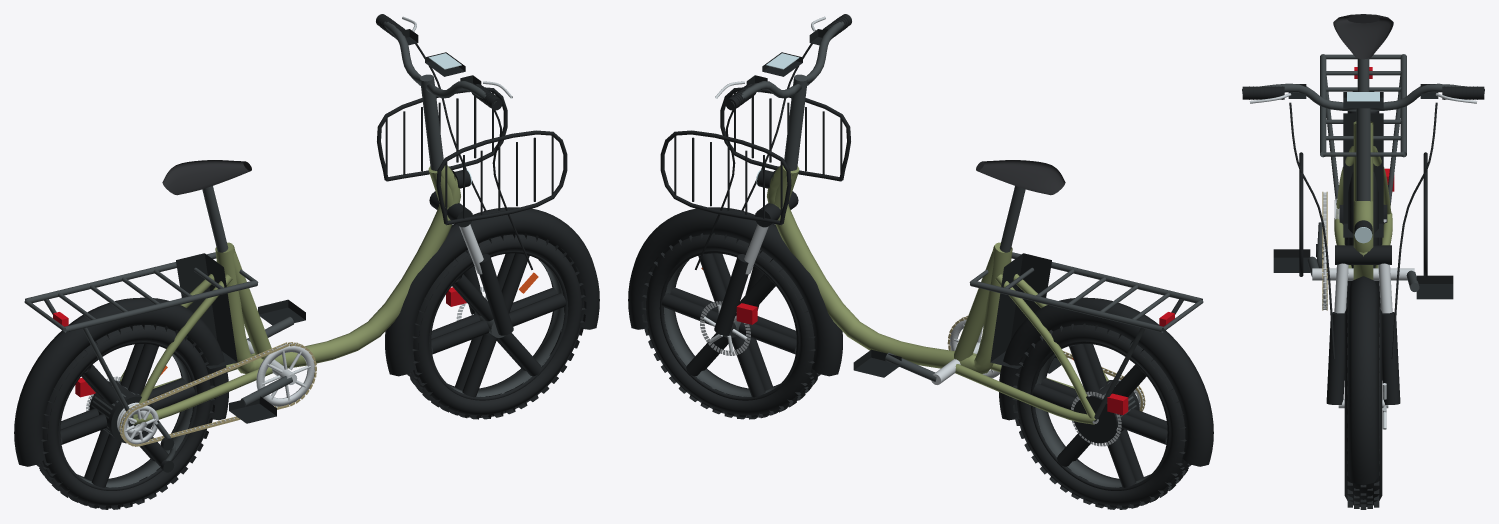
The model's file is fiido-t1.glb.
3 views of the same model, side by side, from view 1: azimuth 30°, elevation 25°; view 2: azimuth 150°, elevation 25°; view 3: azimuth 270°, elevation 25° (orthographic). The views are drawn at different scales.
Visible parts, largest first — view 1: Bodywork | black, Chassis | olive, FrontWheel | rubber, FrontWheel | black, RearWheel | rubber, RearWheel | black, Bodywork | graphite, Drive | steel, BatteryMount | black, Cockpit | graphite, Bodywork | seat, Fork | black (+9 smaller); view 2: Bodywork | black, Chassis | olive, FrontWheel | rubber, RearWheel | rubber, FrontWheel | black, RearWheel | black, Bodywork | graphite, BatteryMount | black, Cockpit | graphite, Bodywork | seat, Fork | black, FrontWheel | graphite (+8 smaller); view 3: Bodywork | black, Bodywork | graphite, Fork | black, Chassis | olive, Cockpit | graphite, Cockpit | rubber, FrontWheel | rubber, Bodywork | seat, BatteryMount | black, Drive | black, Fork | steel, Drive | steel (+6 smaller).
Part boxes in pixels (x1,y1,x2,y2): Bodywork | black: (14,87,599,466); Chassis | olive: (120,165,460,424); FrontWheel | rubber: (407,233,586,419); FrontWheel | black: (429,251,568,400); RearWheel | rubber: (37,323,215,509); RearWheel | black: (58,341,197,490); Bodywork | graphite: (24,252,258,418); Drive | steel: (117,340,315,444); BatteryMount | black: (176,253,237,368); Cockpit | graphite: (383,21,496,170); Bodywork | seat: (162,160,251,195); Fork | black: (429,191,513,335); Bodywork | black: (628,87,1213,466); Chassis | olive: (767,165,1108,424); FrontWheel | rubber: (641,233,820,419); RearWheel | rubber: (1012,323,1190,509); FrontWheel | black: (659,251,798,400); RearWheel | black: (1030,341,1169,490); Bodywork | graphite: (969,252,1203,421); BatteryMount | black: (990,253,1051,368); Cockpit | graphite: (731,21,844,170); Bodywork | seat: (976,160,1065,195); Fork | black: (714,191,798,335); FrontWheel | graphite: (664,259,779,396); Bodywork | black: (1299,91,1427,485); Bodywork | graphite: (1320,54,1406,205); Fork | black: (1326,245,1400,404); Chassis | olive: (1334,121,1392,279); Cockpit | graphite: (1242,83,1484,201); Cockpit | rubber: (1242,86,1484,358); FrontWheel | rubber: (1344,300,1382,509); Bodywork | seat: (1333,14,1393,59); BatteryMount | black: (1343,113,1383,237); Drive | black: (1273,244,1453,299); Fork | steel: (1334,263,1392,313); Drive | steel: (1312,192,1414,309).
Bounding box in the file's own units: 1.92 × 1.16 × 0.6634.
